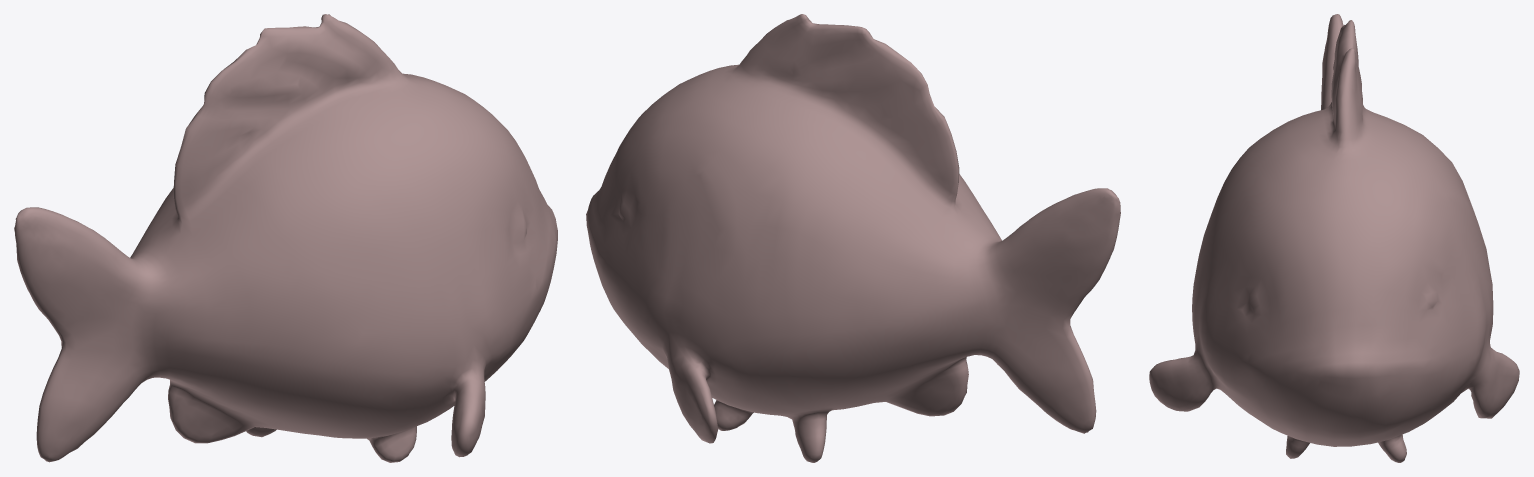
The model's file is Fish_02.fbx.
3 renders of one model, left to right at view 1: azimuth 30°, elevation 25°; view 2: azimuth 150°, elevation 25°; view 3: azimuth 270°, elevation 25°, orthographic. The views are drawn at different scales.
Parts seen in each view (by area): view 1: Fish_02_LowPoly; view 2: Fish_02_LowPoly; view 3: Fish_02_LowPoly.
Boxes of the visible parts, x1,y1,x2,y2 form: Fish_02_LowPoly: (14,14,557,462); Fish_02_LowPoly: (586,14,1120,462); Fish_02_LowPoly: (1149,14,1519,462).
Size of the model in its own units: 99.65 by 76.79 by 65.21.
